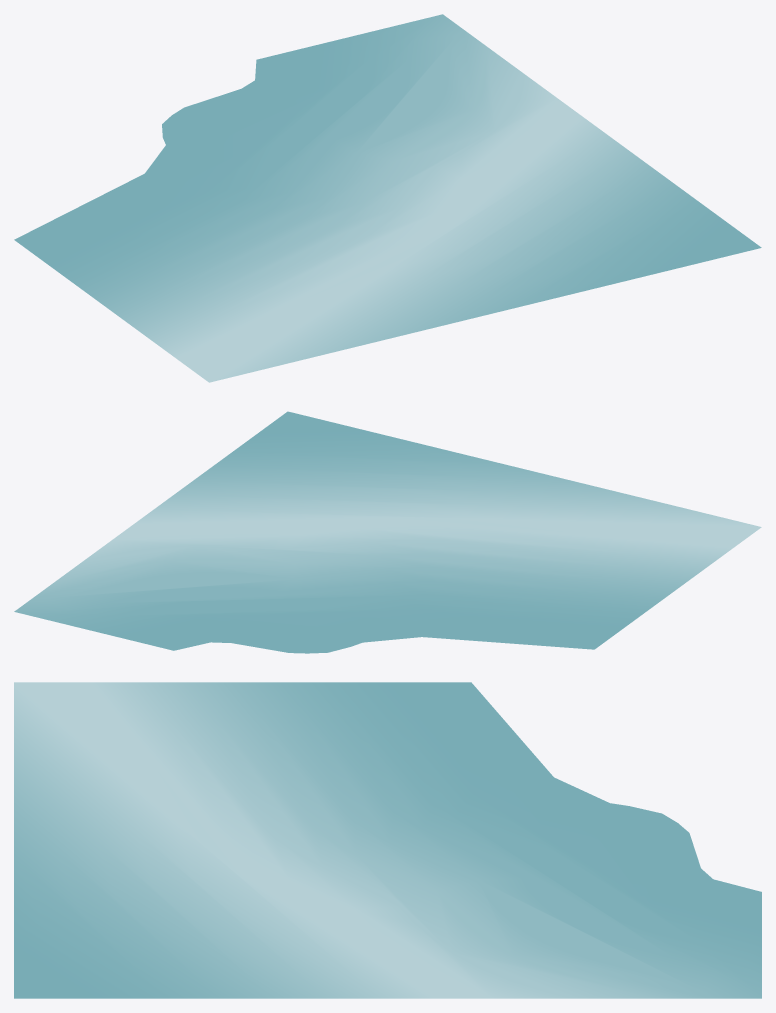
3 views of the same model, one above another, from view 1: azimuth 30°, elevation 25°; view 2: azimuth 150°, elevation 25°; view 3: azimuth 270°, elevation 25° (orthographic). The views are drawn at different scales.
Parts seen in each view (by area): view 1: city; view 2: city; view 3: city.
Part boxes in pixels (left/top/right/bottom): city: left=14, top=14, right=761, bottom=382; city: left=14, top=411, right=761, bottom=653; city: left=14, top=682, right=761, bottom=998.
Bounding box in the file's own units: 500 × 0 × 500.
